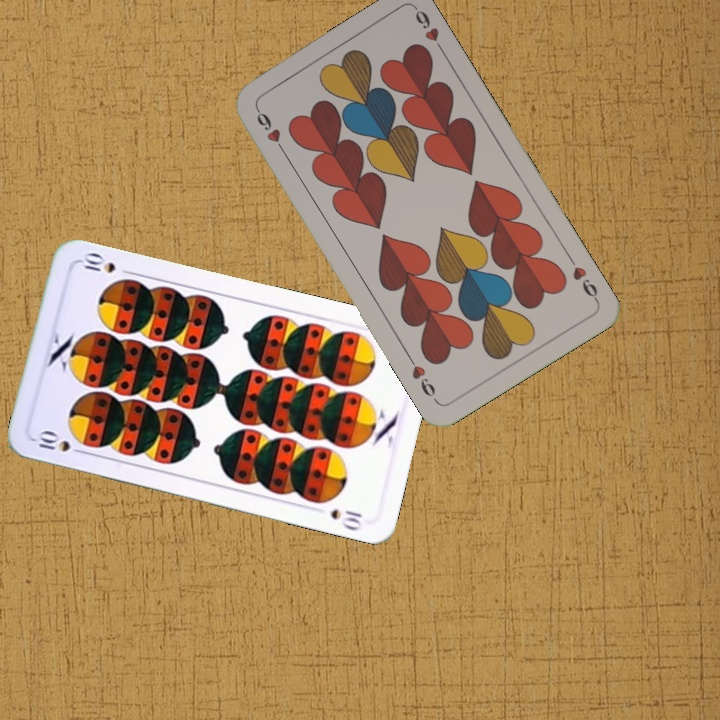H9: (251, 104, 289, 157), (564, 252, 601, 305)
S10: (30, 428, 89, 457)
